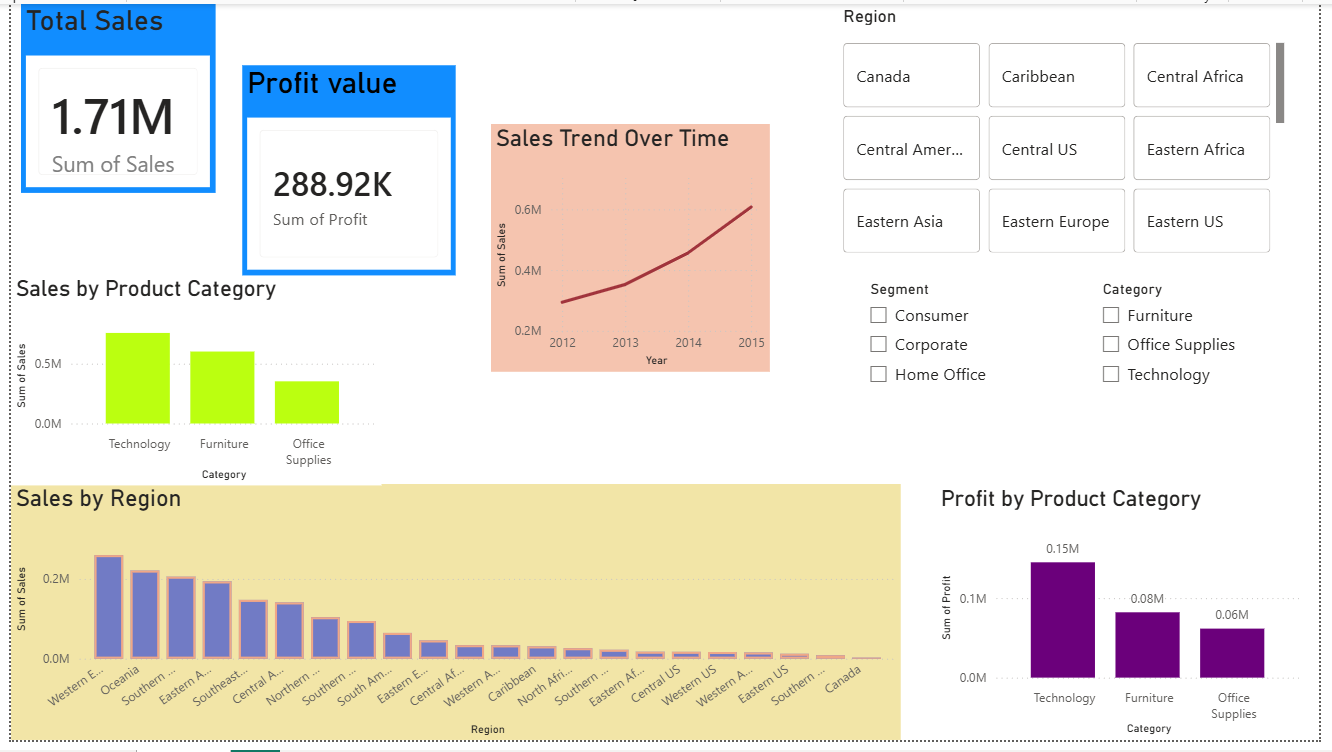

What the dashboard file says about the page in this screenshot:
{"tool":"powerbi","page":{"name":"Page 1","canvas":[1280,720],"ordinal":0},"visuals":[{"type":"cardVisual","title":"Total Sales","fields":{"Data":["Sum(Global_Superstore_Cleaned.Sales)"]},"box":[9.8,0,190.8,184.6],"z":0},{"type":"clusteredColumnChart","title":"Sales by Region","fields":{"Category":["Global_Superstore_Cleaned.Region"],"Y":["Sum(Global_Superstore_Cleaned.Sales)"]},"box":[0,469.6,870.7,250.7],"z":1000},{"type":"clusteredColumnChart","title":"Sales by Product Category","fields":{"Category":["Global_Superstore_Cleaned.Category"],"Y":["Sum(Global_Superstore_Cleaned.Sales)"]},"box":[0,265.4,362.6,205.8],"z":2000},{"type":"lineChart","title":"Sales Trend Over Time","fields":{"Category":["Global_Superstore_Cleaned.Order Date.Variation.Date Hierarchy.Year","Global_Superstore_Cleaned.Order Date.Variation.Date Hierarchy.Quarter","Global_Superstore_Cleaned.Order Date.Variation.Date Hierarchy.Month"],"Y":["Sum(Global_Superstore_Cleaned.Sales)"]},"box":[469.6,117.4,272.7,242.1],"z":3000},{"type":"clusteredColumnChart","title":"Profit by Product Category","fields":{"Category":["Global_Superstore_Cleaned.Category"],"Y":["Sum(Global_Superstore_Cleaned.Profit)"]},"box":[904.9,470.8,363,249],"z":4000},{"type":"advancedSlicerVisual","fields":{"Values":["Global_Superstore_Cleaned.Region"]},"box":[809.5,1.2,441,248.7],"z":5000},{"type":"slicer","fields":{"Values":["Global_Superstore_Cleaned.Category"]},"box":[1055.3,265.4,150.4,139.4],"z":6000},{"type":"slicer","fields":{"Values":["Global_Superstore_Cleaned.Segment"]},"box":[827.9,265.4,182.2,172.4],"z":7000},{"type":"cardVisual","title":"Profit value","fields":{"Data":["Sum(Global_Superstore_Cleaned.Profit)"]},"box":[226.2,59.9,209.1,205.4],"z":8000}]}

Visuals, with their boxes in screenshot pixels (x1, y1, x2, y2), scaled from the page's 1280x720 canvas onto the 1332x752 screenshot:
"Total Sales" cardVisual: {"x1": 10, "y1": 0, "x2": 209, "y2": 193}
"Sales by Region" clusteredColumnChart: {"x1": 0, "y1": 490, "x2": 906, "y2": 751}
"Sales by Product Category" clusteredColumnChart: {"x1": 0, "y1": 277, "x2": 377, "y2": 492}
"Sales Trend Over Time" lineChart: {"x1": 489, "y1": 123, "x2": 772, "y2": 375}
"Profit by Product Category" clusteredColumnChart: {"x1": 942, "y1": 492, "x2": 1319, "y2": 751}
advancedSlicerVisual - Global_Superstore_Cleaned.Region: {"x1": 842, "y1": 1, "x2": 1301, "y2": 261}
slicer - Global_Superstore_Cleaned.Category: {"x1": 1098, "y1": 277, "x2": 1255, "y2": 423}
slicer - Global_Superstore_Cleaned.Segment: {"x1": 862, "y1": 277, "x2": 1051, "y2": 457}
"Profit value" cardVisual: {"x1": 235, "y1": 63, "x2": 453, "y2": 277}
